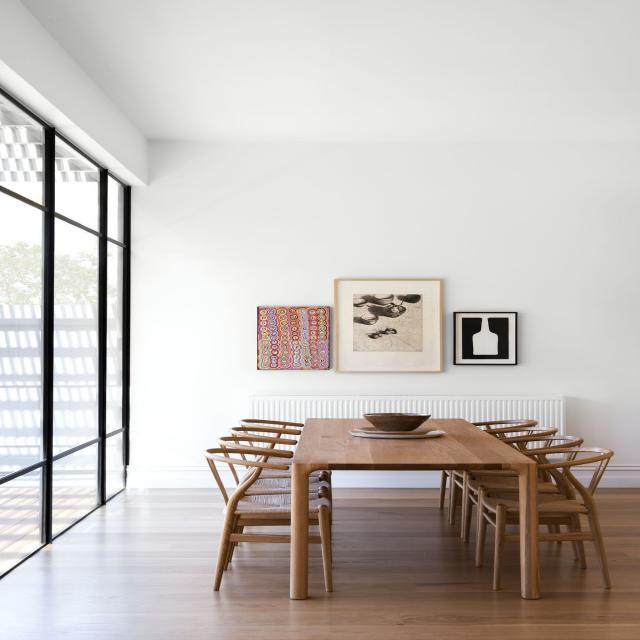mobile-phone: (288, 409, 542, 606)
